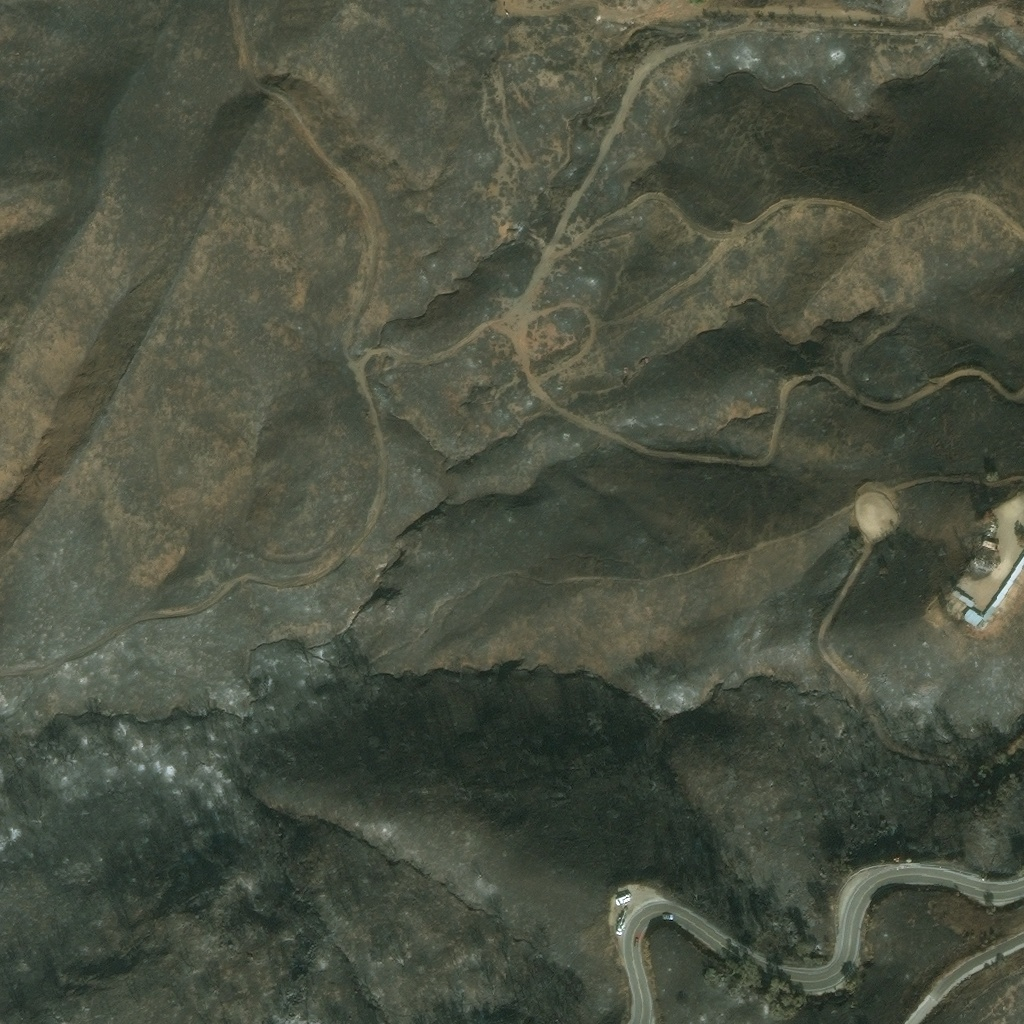0 no-damage: (951, 589, 975, 609), (978, 538, 996, 549)
3 destroyed: (961, 556, 1023, 632), (971, 554, 991, 568), (980, 519, 995, 537), (991, 553, 1006, 571), (967, 571, 982, 583)
